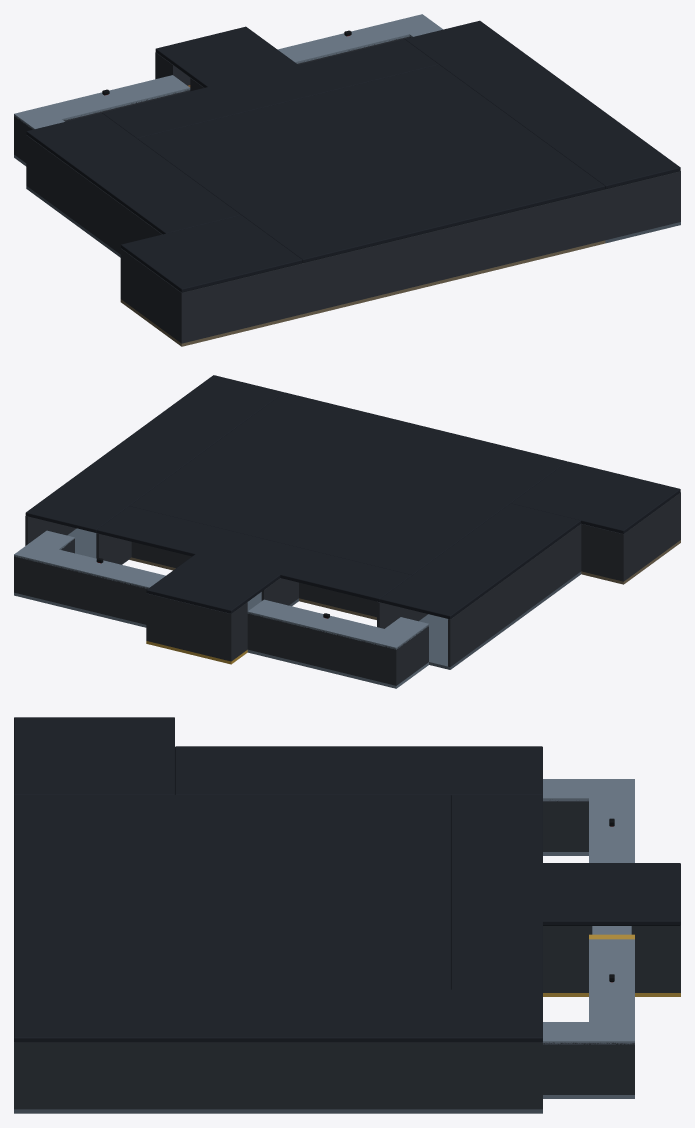
The model's file is mapa_bosquejo_v2.obj.
The picture shows the model from 3 angles, top to bottom: view 1: azimuth 30°, elevation 25°; view 2: azimuth 150°, elevation 25°; view 3: azimuth 270°, elevation 25°; orthographic projection. The views are drawn at different scales.
Parts seen in each view (by area): view 1: Techo_Cuerpo_Central_Techo_Exterior_Grafito, Muro_Norte_Escenario_Muros_Gris_Oscuro, Techo_Pasillo_Izquierdo_Techo_Exterior_Grafito, Techo_Pasillo_Derecho_Techo_Exterior_Grafito, Techo_Pasillo_Principal_y_Oficina_Techo_Exterior_Grafito, Techo_Rincon_Premios_Techo_Exterior_Grafito, Muro_Norte_Rincon_Premios_Muros_Gris_Oscuro, Muro_Exterior_Este_Muros_Gris_Oscuro, Techo_Zona_Tecnica_Sur_Este_Techo_Exterior_Grafito, Muro_Norte_Pasillo_Izquierdo_Muros_Gris_Oscuro, Techo_Zona_Tecnica_Sur_Oeste_Techo_Exterior_Grafito, Muro_Rincon_Este_Muros_Gris_Oscuro (+5 smaller); view 2: Techo_Cuerpo_Central_Techo_Exterior_Grafito, Techo_Pasillo_Izquierdo_Techo_Exterior_Grafito, Techo_Pasillo_Derecho_Techo_Exterior_Grafito, Techo_Rincon_Premios_Techo_Exterior_Grafito, Techo_Pasillo_Principal_y_Oficina_Techo_Exterior_Grafito, Muro_Exterior_Este_Muros_Gris_Oscuro, Vent_Der_Muro_Sur_Muros_Gris_Oscuro, Vent_Izq_Muro_Sur_Muros_Gris_Oscuro, Muro_Fondo_Oficina_Muros_Gris_Oscuro, Techo_Zona_Tecnica_Sur_Este_Techo_Exterior_Grafito, Techo_Zona_Tecnica_Sur_Oeste_Techo_Exterior_Grafito, Muro_Rincon_Este_Muros_Gris_Oscuro (+16 smaller); view 3: Techo_Cuerpo_Central_Techo_Exterior_Grafito, Muro_Exterior_Oeste_Muros_Gris_Oscuro, Techo_Pasillo_Izquierdo_Techo_Exterior_Grafito, Techo_Pasillo_Derecho_Techo_Exterior_Grafito, Techo_Pasillo_Principal_y_Oficina_Techo_Exterior_Grafito, Techo_Rincon_Premios_Techo_Exterior_Grafito, Techo_Zona_Tecnica_Sur_Oeste_Techo_Exterior_Grafito, Techo_Zona_Tecnica_Sur_Este_Techo_Exterior_Grafito, Techo_Ducto_Izquierdo_Horizontal_Piso_Ventilaciones, Vent_Izq_Muro_Oeste_Muros_Gris_Oscuro, Techo_Ducto_Derecho_Horizontal_Piso_Ventilaciones, Muro_Lateral_Oficina_Oeste_Norte_Muros_Gris_Oscuro (+6 smaller).
Boxes of the visible parts, x1,y1,x2,y2 form: Techo_Cuerpo_Central_Techo_Exterior_Grafito: [137, 64, 604, 262]; Muro_Norte_Escenario_Muros_Gris_Oscuro: [302, 190, 605, 313]; Techo_Pasillo_Izquierdo_Techo_Exterior_Grafito: [405, 20, 680, 189]; Techo_Pasillo_Derecho_Techo_Exterior_Grafito: [26, 113, 240, 234]; Techo_Pasillo_Principal_y_Oficina_Techo_Exterior_Grafito: [155, 26, 332, 112]; Techo_Rincon_Premios_Techo_Exterior_Grafito: [121, 215, 302, 292]; Muro_Norte_Rincon_Premios_Muros_Gris_Oscuro: [180, 263, 302, 343]; Muro_Exterior_Este_Muros_Gris_Oscuro: [26, 135, 162, 254]; Techo_Zona_Tecnica_Sur_Este_Techo_Exterior_Grafito: [102, 84, 253, 138]; Muro_Norte_Pasillo_Izquierdo_Muros_Gris_Oscuro: [605, 171, 680, 240]; Techo_Zona_Tecnica_Sur_Oeste_Techo_Exterior_Grafito: [299, 39, 438, 92]; Muro_Rincon_Este_Muros_Gris_Oscuro: [120, 248, 184, 343]; Techo_Cuerpo_Central_Techo_Exterior_Grafito: [129, 392, 567, 574]; Techo_Pasillo_Izquierdo_Techo_Exterior_Grafito: [25, 375, 283, 532]; Techo_Pasillo_Derecho_Techo_Exterior_Grafito: [379, 503, 580, 619]; Techo_Rincon_Premios_Techo_Exterior_Grafito: [511, 461, 680, 533]; Techo_Pasillo_Principal_y_Oficina_Techo_Exterior_Grafito: [146, 533, 298, 613]; Muro_Exterior_Este_Muros_Gris_Oscuro: [448, 524, 581, 666]; Vent_Der_Muro_Sur_Muros_Gris_Oscuro: [247, 613, 397, 685]; Vent_Izq_Muro_Sur_Muros_Gris_Oscuro: [14, 556, 148, 624]; Muro_Fondo_Oficina_Muros_Gris_Oscuro: [146, 593, 232, 661]; Techo_Zona_Tecnica_Sur_Este_Techo_Exterior_Grafito: [267, 547, 411, 601]; Techo_Zona_Tecnica_Sur_Oeste_Techo_Exterior_Grafito: [96, 506, 241, 556]; Muro_Rincon_Este_Muros_Gris_Oscuro: [621, 492, 680, 581]; Techo_Cuerpo_Central_Techo_Exterior_Grafito: [14, 795, 450, 989]; Muro_Exterior_Oeste_Muros_Gris_Oscuro: [14, 1042, 542, 1109]; Techo_Pasillo_Izquierdo_Techo_Exterior_Grafito: [14, 989, 542, 1042]; Techo_Pasillo_Derecho_Techo_Exterior_Grafito: [175, 746, 542, 795]; Techo_Pasillo_Principal_y_Oficina_Techo_Exterior_Grafito: [451, 863, 680, 925]; Techo_Rincon_Premios_Techo_Exterior_Grafito: [14, 717, 174, 795]; Techo_Zona_Tecnica_Sur_Oeste_Techo_Exterior_Grafito: [451, 911, 542, 989]; Techo_Zona_Tecnica_Sur_Este_Techo_Exterior_Grafito: [451, 795, 542, 872]; Techo_Ducto_Izquierdo_Horizontal_Piso_Ventilaciones: [589, 939, 634, 1044]; Vent_Izq_Muro_Oeste_Muros_Gris_Oscuro: [543, 1042, 634, 1094]; Techo_Ducto_Derecho_Horizontal_Piso_Ventilaciones: [589, 779, 634, 862]; Muro_Lateral_Oficina_Oeste_Norte_Muros_Gris_Oscuro: [543, 926, 588, 992].
Bounding box in the file's own units: 33 × 3.64 × 29.
